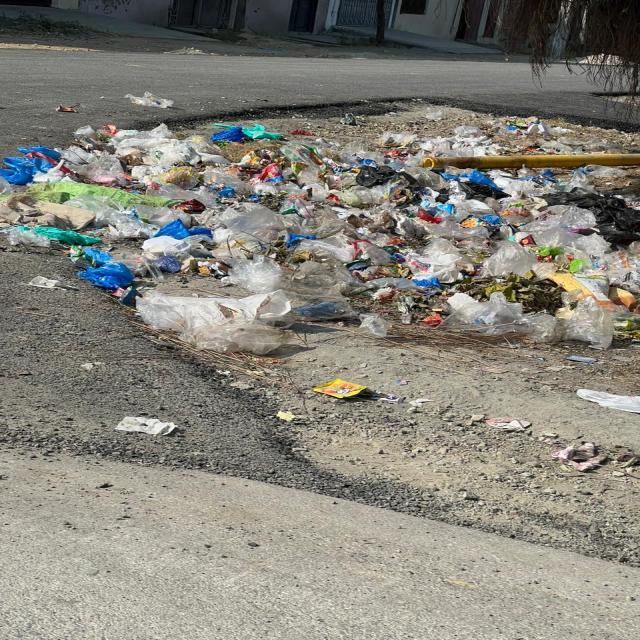garbage: (4, 118, 640, 356)
